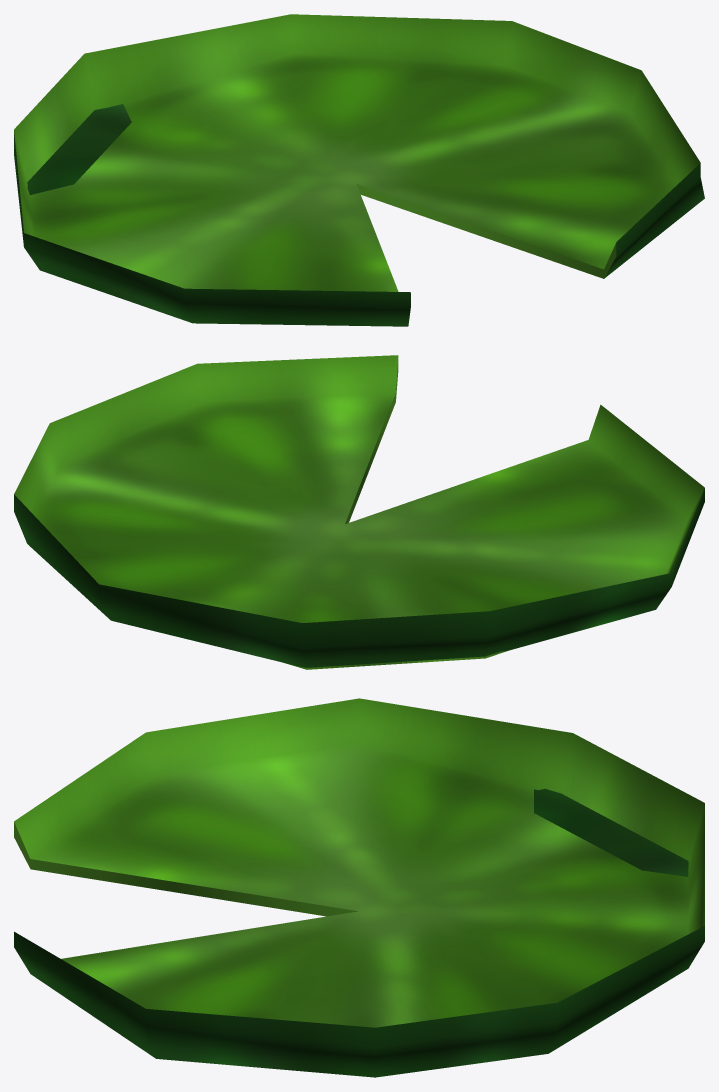
File: lilypad1.fbx
The picture shows the model from 3 angles, top to bottom: view 1: azimuth 30°, elevation 25°; view 2: azimuth 150°, elevation 25°; view 3: azimuth 270°, elevation 25°; orthographic projection. The views are drawn at different scales.
Parts seen in each view (by area): view 1: lilyPad1; view 2: lilyPad1; view 3: lilyPad1.
Boxes of the visible parts, x1,y1,x2,y2 form: lilyPad1: [14, 14, 704, 326]; lilyPad1: [14, 355, 704, 669]; lilyPad1: [14, 698, 704, 1077].
Bounding box in the file's own units: 8.62 × 0.7545 × 7.52.
1 material, 1 textured.
